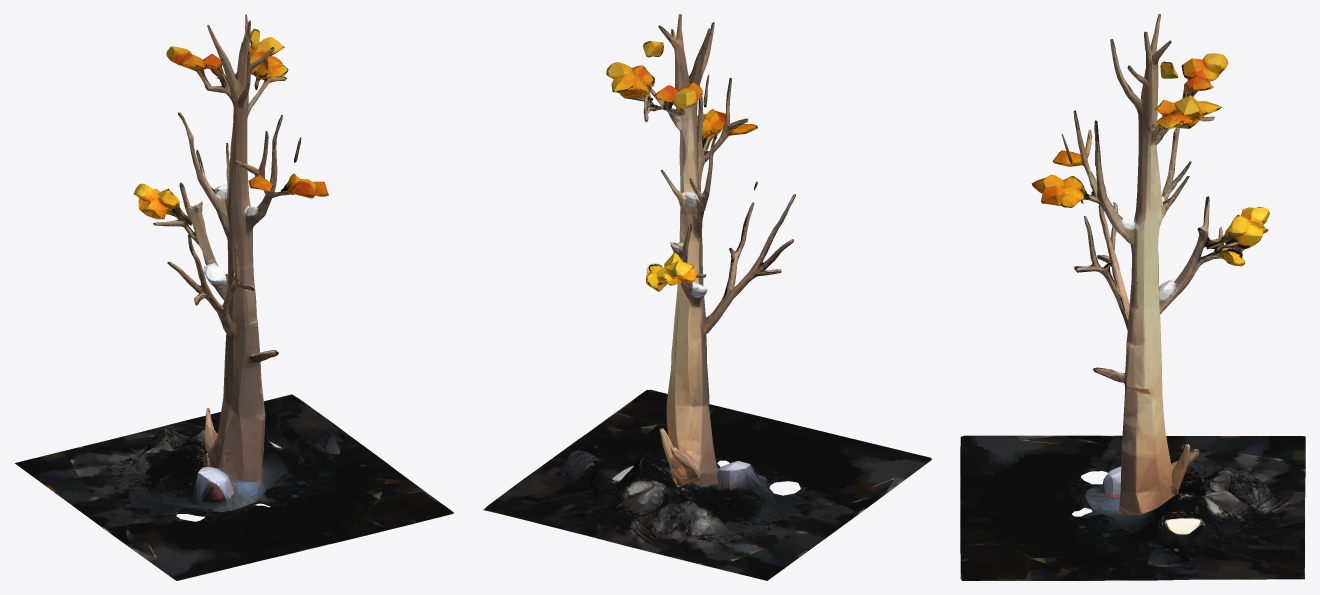
The model's file is autum_tree.glb.
The picture shows the model from 3 angles, left to right: view 1: azimuth 30°, elevation 25°; view 2: azimuth 150°, elevation 25°; view 3: azimuth 270°, elevation 25°; orthographic projection. The views are drawn at different scales.
Visible parts, largest first — view 1: world; view 2: world; view 3: world.
Part boxes in pixels (left/top/right/bottom): world: left=15, top=14, right=453, bottom=580; world: left=483, top=14, right=931, bottom=580; world: left=960, top=14, right=1305, bottom=580.
Size of the model in its own units: 0.6159 by 0.997 by 0.6198.
1 material, 1 textured.
